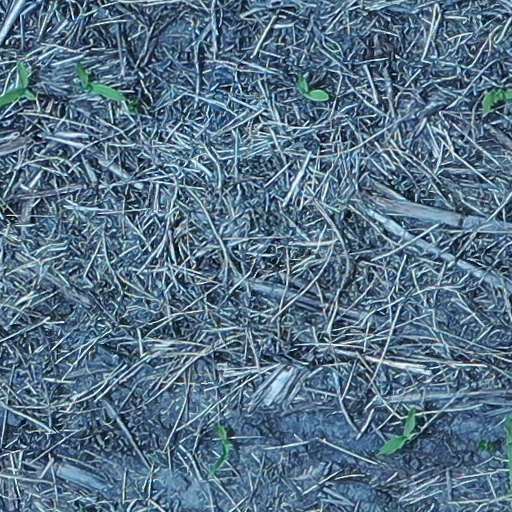planta: (77, 64, 127, 100), (379, 408, 416, 454), (211, 425, 229, 476), (299, 75, 330, 100)
